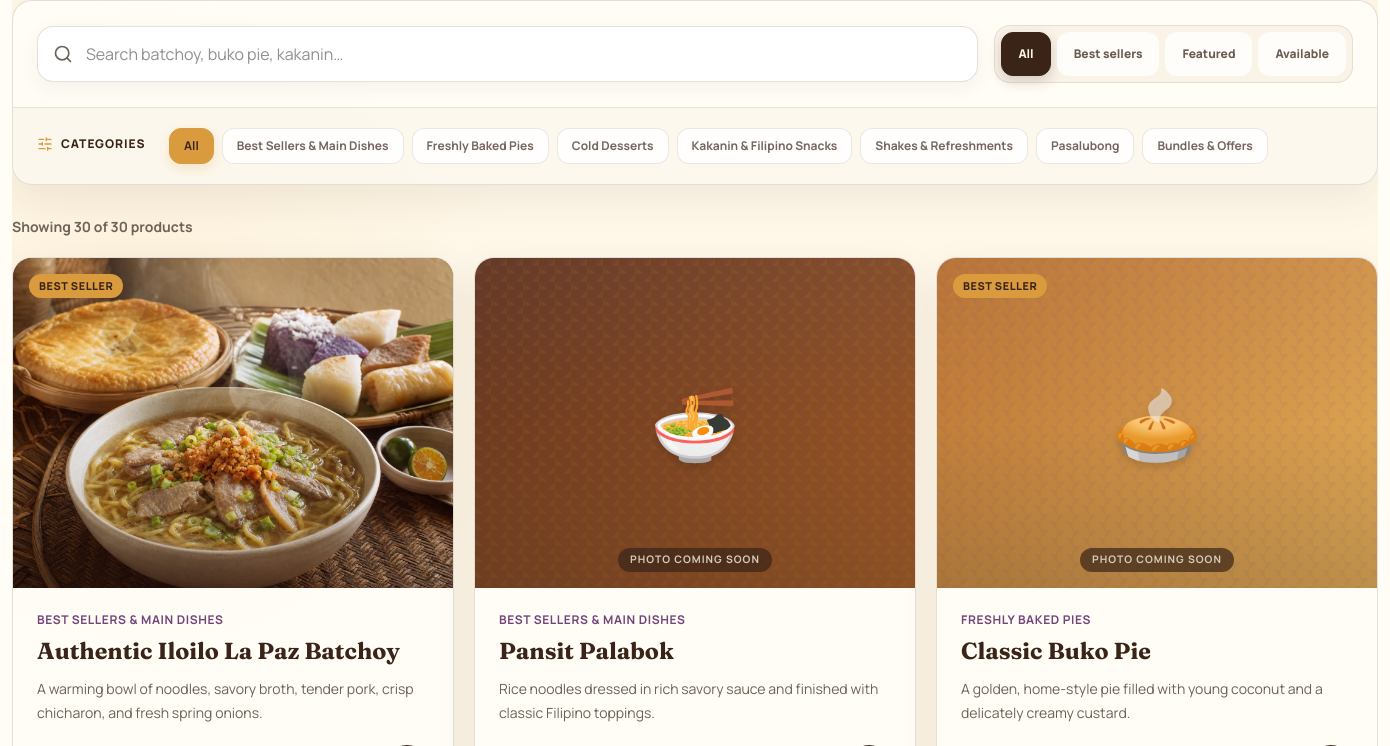
MenuExplorer › supports the best-seller toggle
Click the button "Best sellers" at (1108, 54), box [1057, 32, 1160, 76]
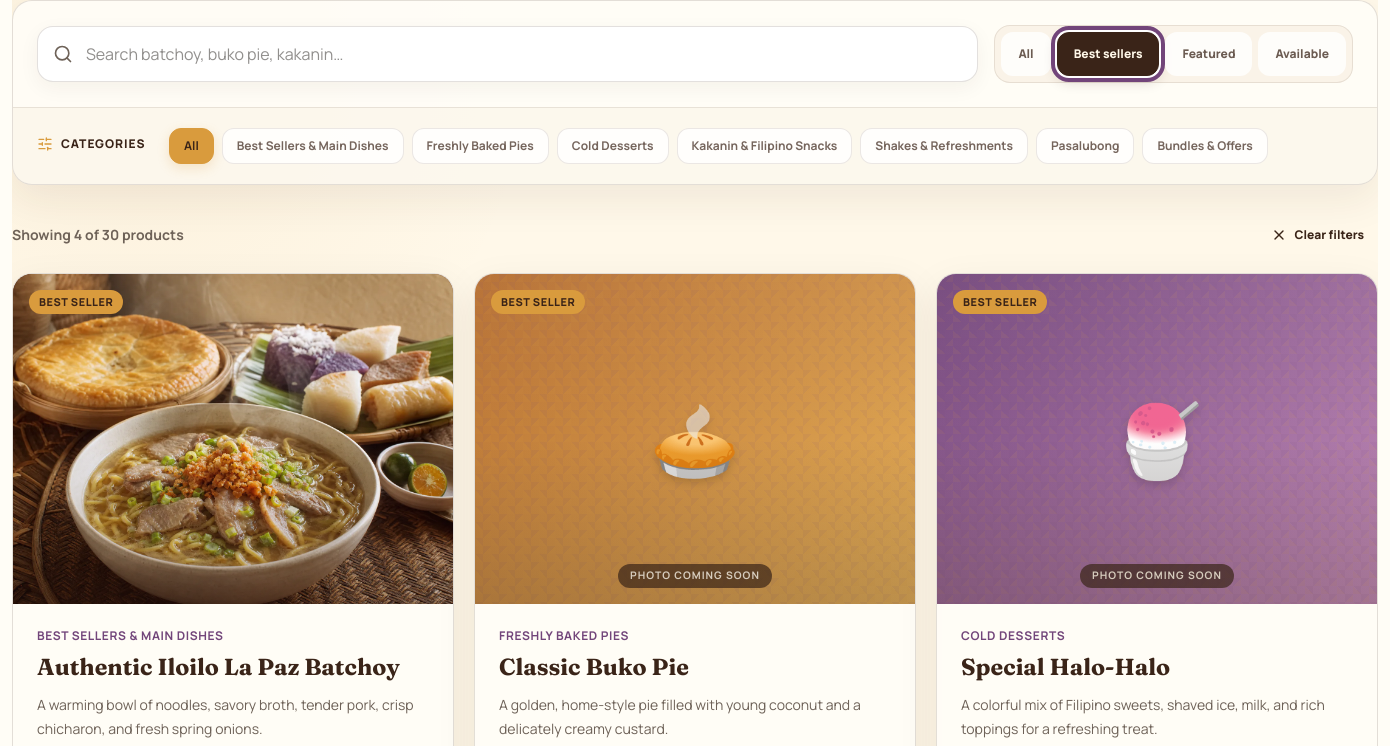
Check: the 1st text "Best seller" is shown, box [29, 290, 123, 314]
Check: the link "Pansit Palabok" is gone
